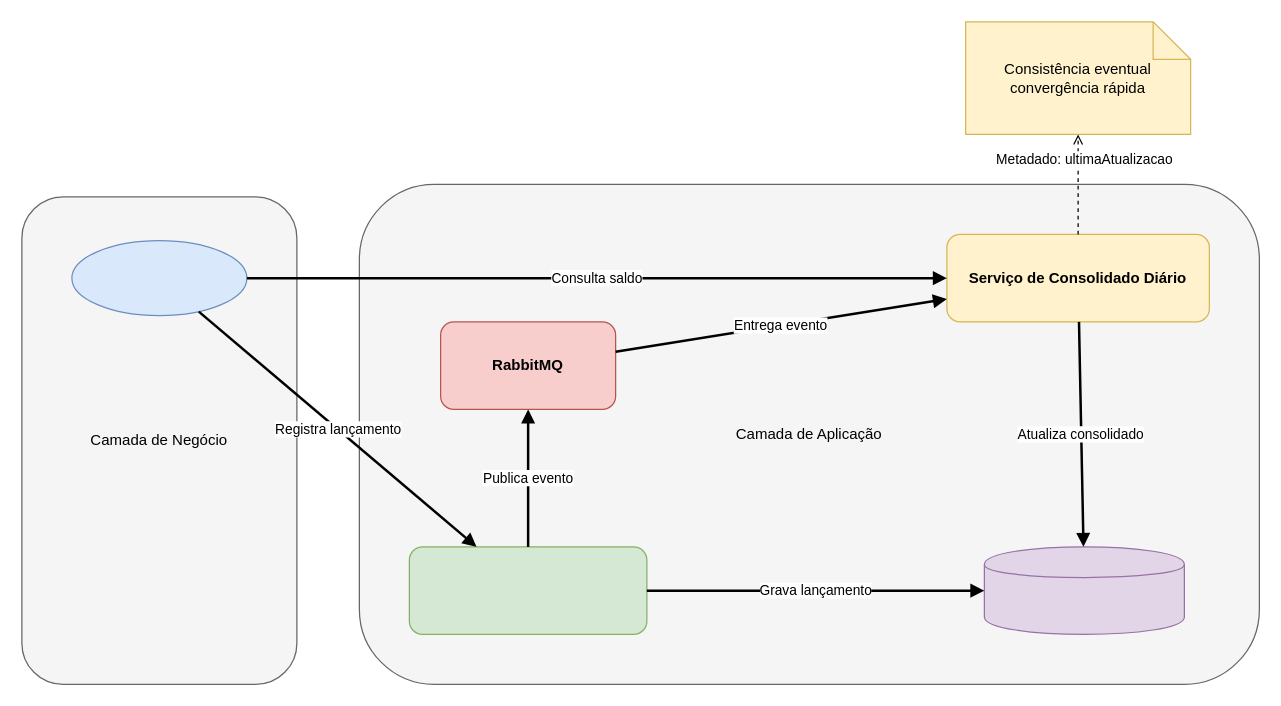
Some shapes in this 1281 by 706 pixel diagram are drawn without their labels. Each missing label, with the centre of its shape:
PostgreSQL: (x=1083, y=590)
Serviço de Lançamentos: (x=527, y=590)
Usuário / Consumidor: (x=159, y=277)
